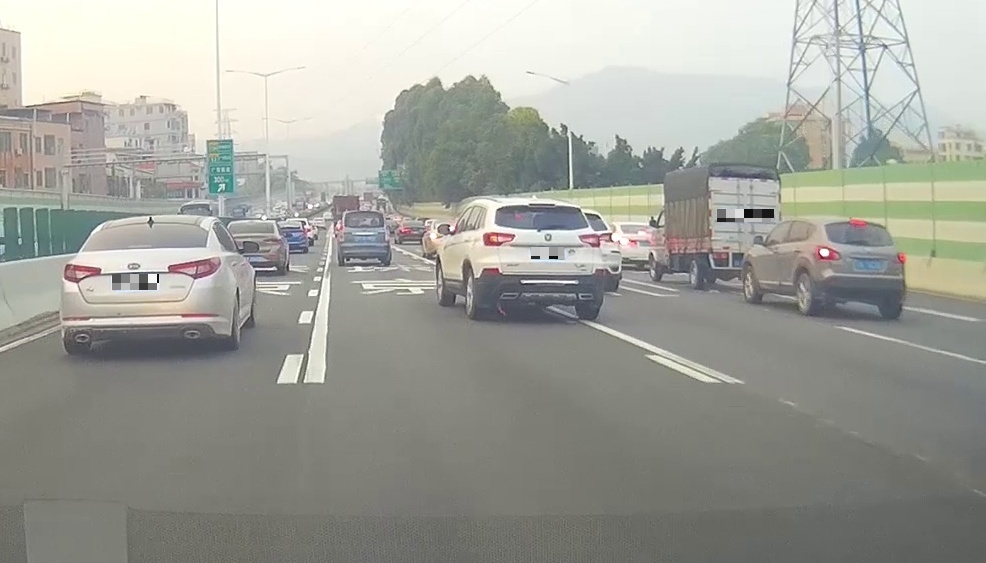L_light: (63, 263, 101, 284), (482, 232, 515, 246), (815, 246, 842, 261), (339, 225, 344, 242)
R_light: (167, 256, 221, 280), (578, 234, 600, 248), (893, 251, 905, 264), (384, 224, 390, 242)
T_light: (528, 203, 556, 208), (126, 244, 152, 249), (849, 219, 867, 226), (358, 210, 370, 213)
day-left: (474, 198, 604, 320), (813, 217, 906, 319)
day-no: (59, 215, 236, 355), (337, 209, 390, 266)
plate_1: (112, 274, 159, 290)
plate_2: (531, 247, 564, 259)
plate_3: (717, 209, 774, 222)
